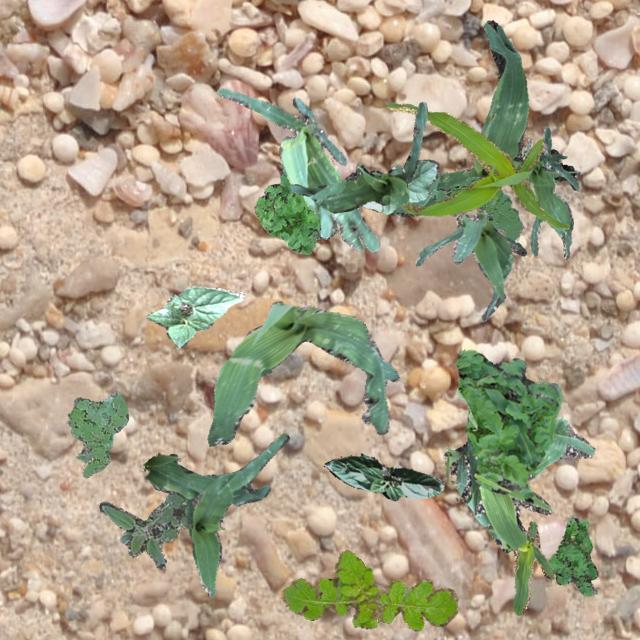crop: (394, 19, 576, 216), (206, 300, 398, 446), (216, 88, 378, 252), (142, 432, 288, 596), (386, 102, 568, 228), (444, 416, 594, 552), (288, 100, 426, 212), (414, 210, 526, 320), (522, 124, 578, 258), (146, 286, 244, 346), (324, 452, 444, 500), (344, 158, 438, 214), (512, 520, 554, 614)
weed: (454, 348, 560, 504), (280, 548, 458, 630), (254, 172, 338, 254), (98, 492, 188, 568), (428, 176, 522, 240), (66, 389, 128, 476), (548, 516, 596, 594)
